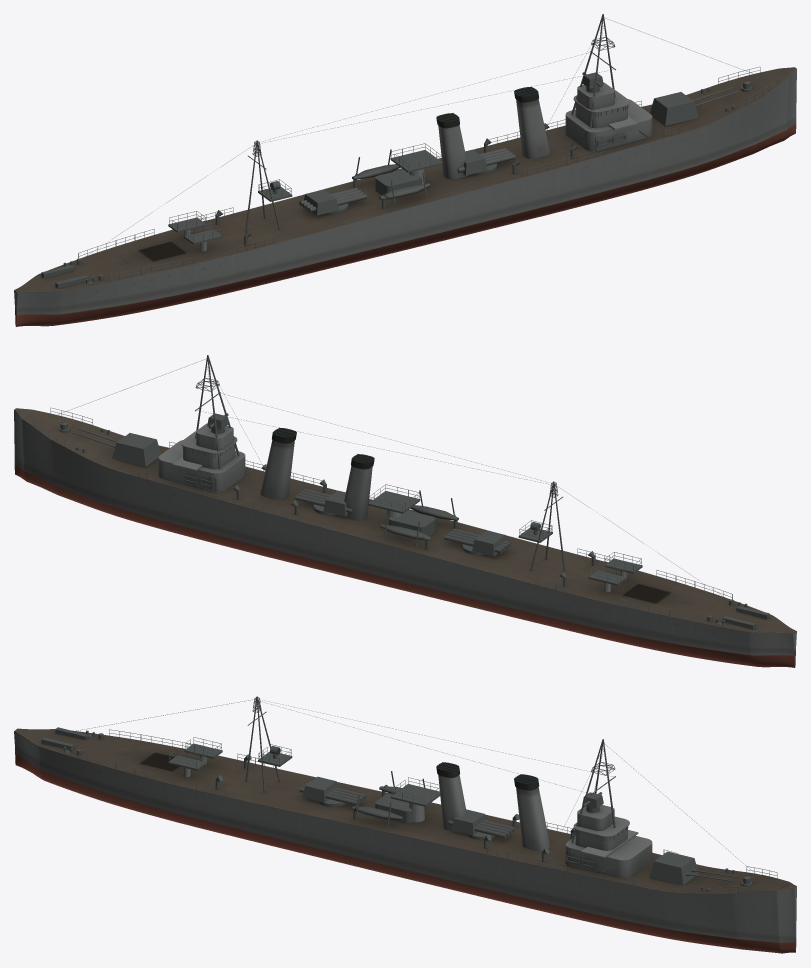
Rendered from shiratsuyu-dd-blender.glb.
The picture shows the model from 3 angles, top to bottom: view 1: azimuth 30°, elevation 25°; view 2: azimuth 150°, elevation 25°; view 3: azimuth 330°, elevation 25°; orthographic projection.
Visible parts, largest first — view 1: Bottom, Kit_turret-127mm-twin; view 2: Bottom, Kit_turret-127mm-twin; view 3: Bottom, Kit_turret-127mm-twin.
Part boxes in pixels (x1=…): Bottom: x1=14, y1=14, x2=796, y2=326; Kit_turret-127mm-twin: x1=650, y1=92, x2=698, y2=125; Bottom: x1=14, y1=355, x2=796, y2=667; Kit_turret-127mm-twin: x1=112, y1=433, x2=160, y2=466; Bottom: x1=14, y1=696, x2=796, y2=953; Kit_turret-127mm-twin: x1=649, y1=851, x2=698, y2=885.
Bounding box in the file's own units: 108 × 23.62 × 10.26.
Materials: 3 (1 with a texture image).
